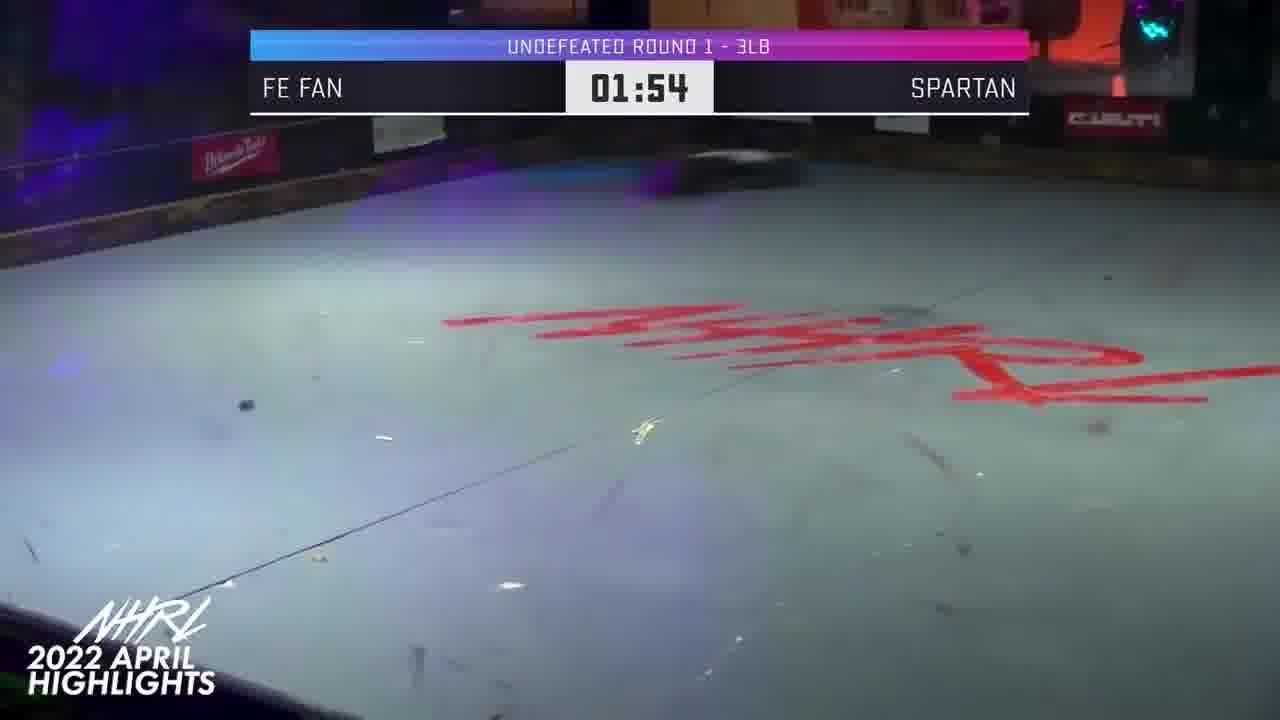combatbot: (635, 148, 813, 204)
